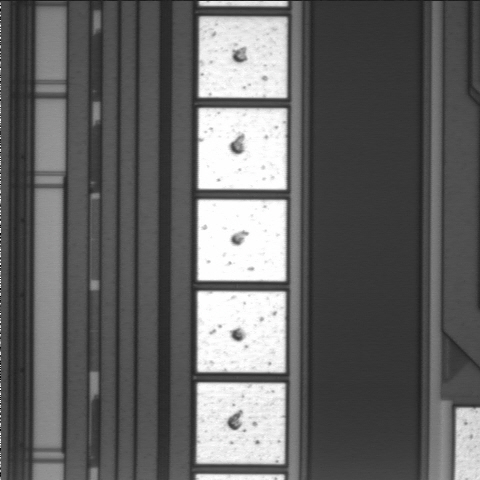pad: (198, 108, 287, 190), (197, 199, 286, 281), (197, 291, 286, 373), (196, 383, 285, 464), (199, 17, 287, 98)
